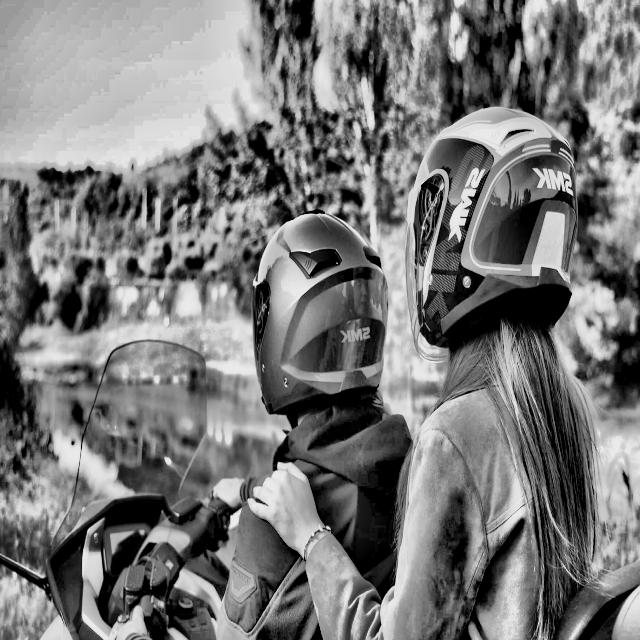Helmet: (406, 96, 588, 401), (243, 193, 393, 445)
